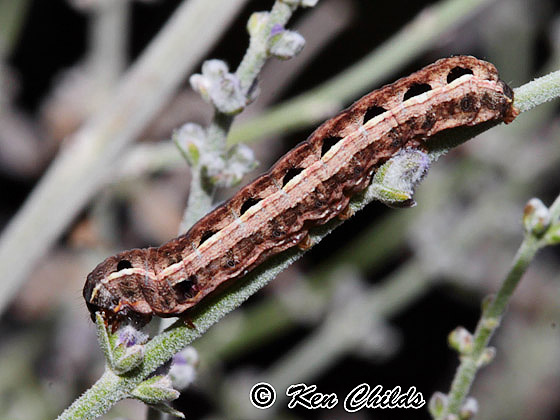Armyworm: (80, 40, 524, 366)
